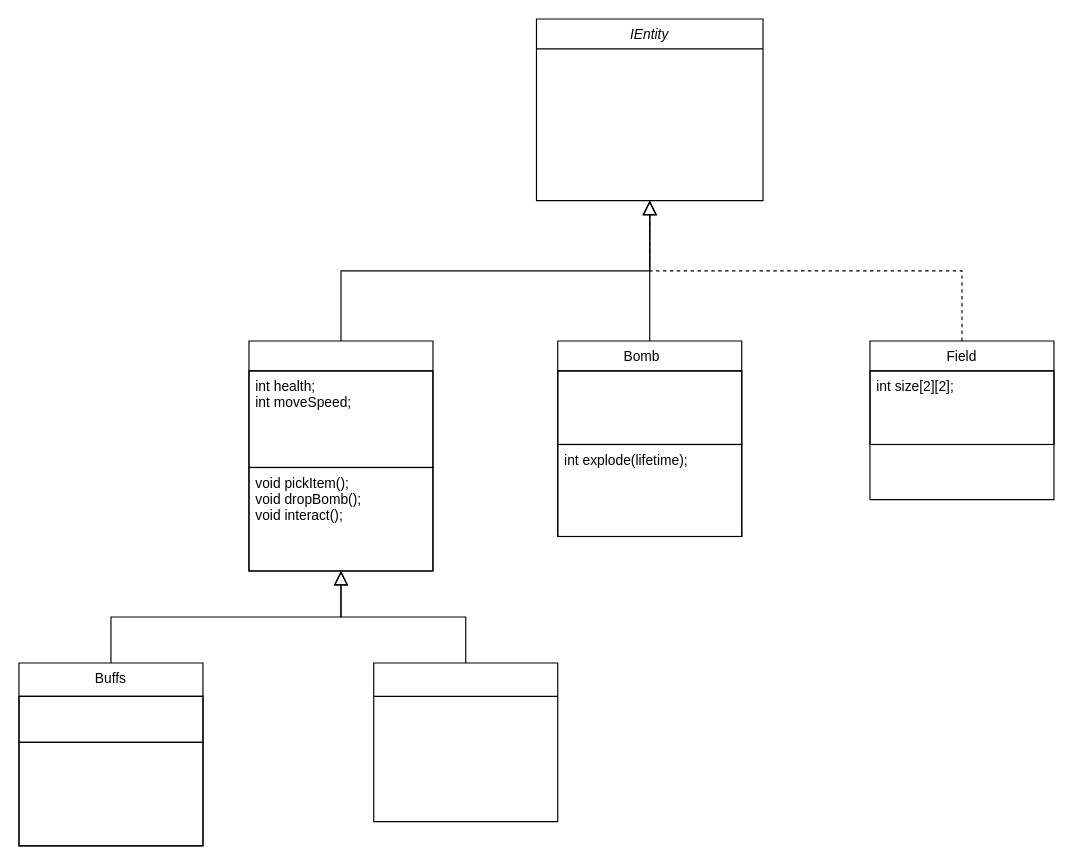
This 1073x865 diagram has some shape labels left out. The shapes that lost their labels are listed below. From the top down, each one's box as (x1, y1, x2, y2) in pixels, then its label:
(557, 370, 742, 444): int power; int range; int pattern[2][2];
(248, 340, 433, 571): Knight
(373, 662, 558, 822): Backpack
(18, 741, 203, 846): void speedUp(); void speedDown(); void damageUp(); void damageDown(); void
